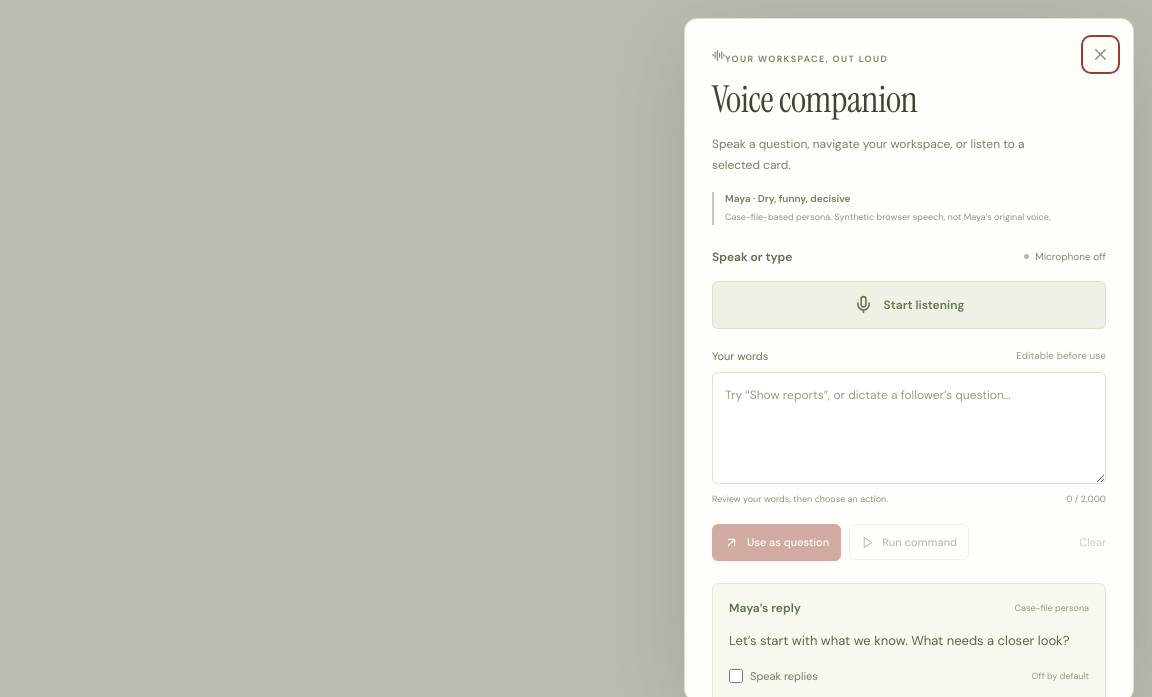
Voice companion with simulated browser speech APIs › aborts a pending microphone start when the user cancels
This screenshot has width=1152, height=697.
Click the button "Start listening": (909, 305) [712,281,1106,329]
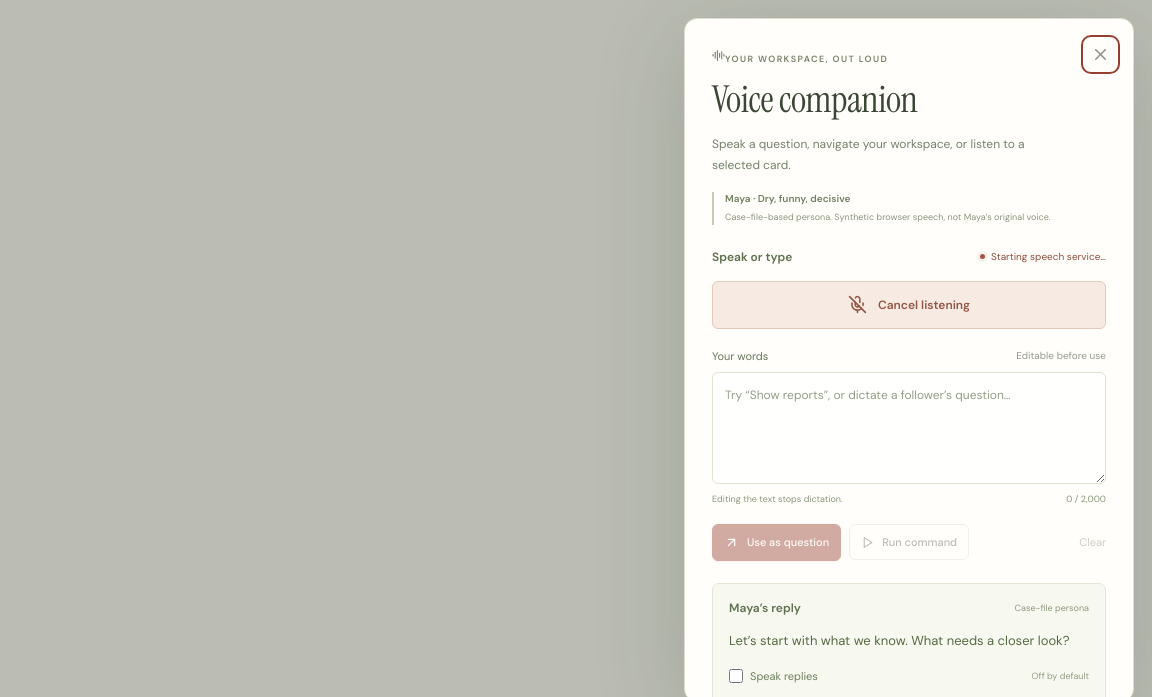
Click the button "Cancel listening": (909, 305) [712,281,1106,329]
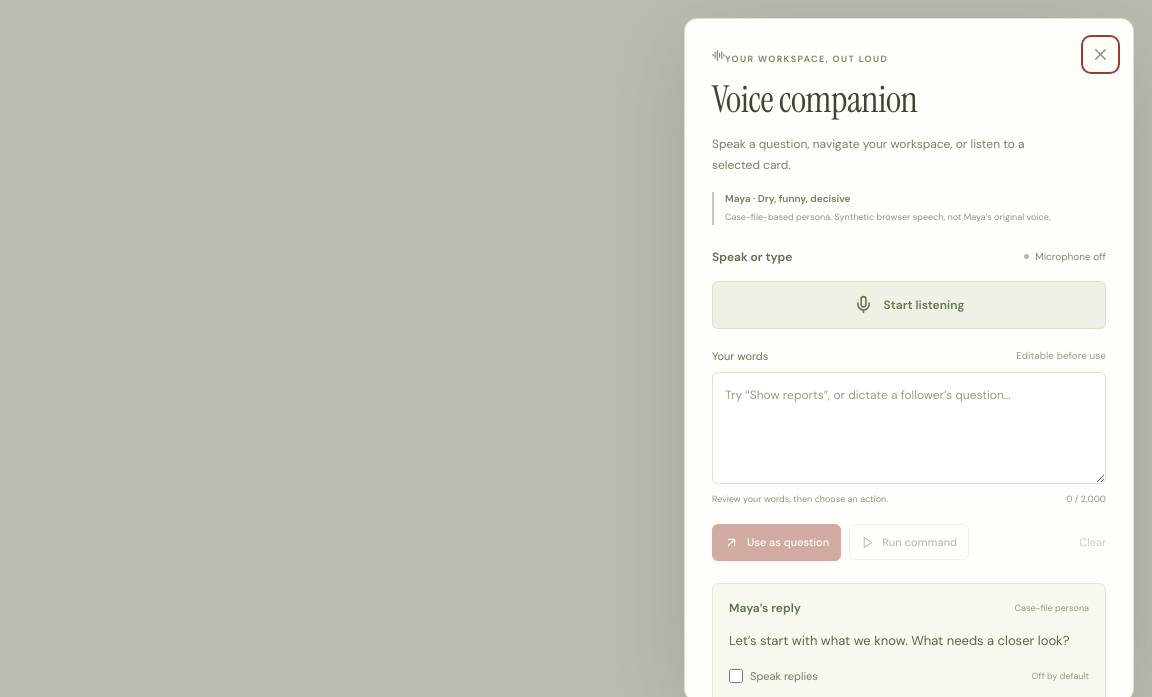
Check: the text "Microphone off" is shown, box [1024,250,1106,263]
